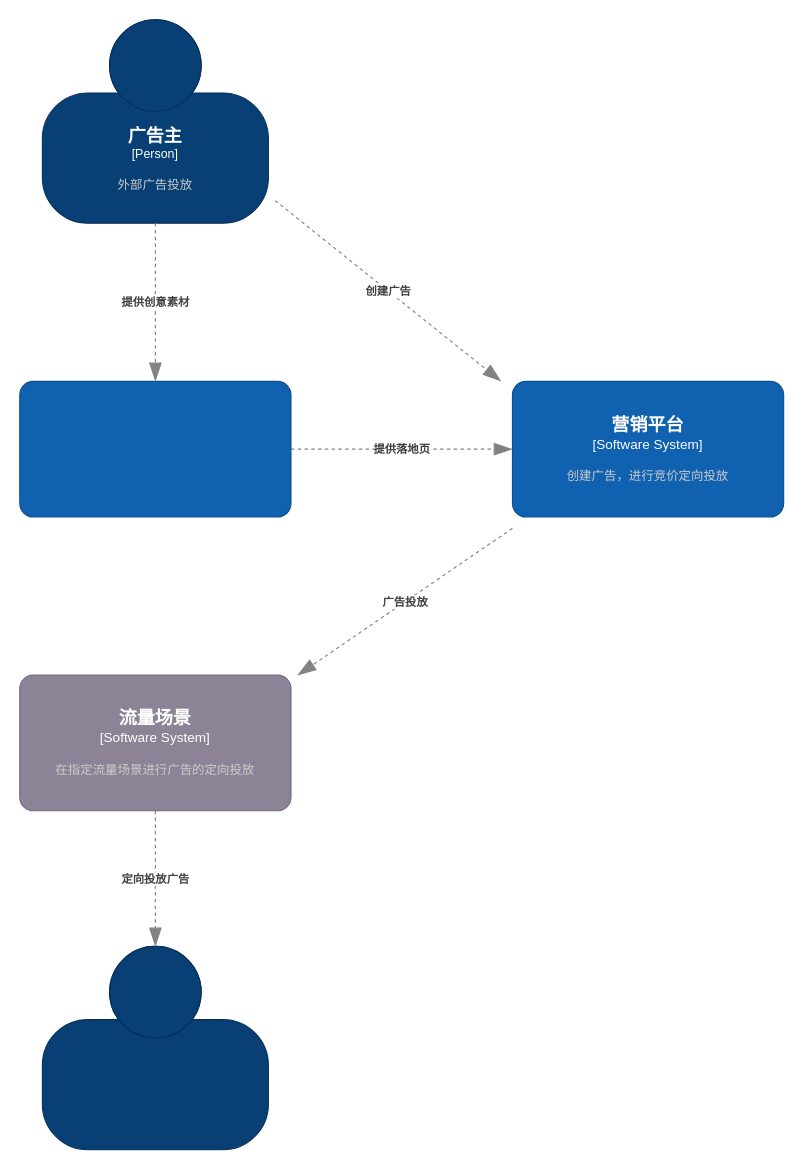
Some shapes in this 803 by 1170 pixel diagram are drawn without their labels. The centre of each missing label's shape, as x and y in pixels:
"用户 [Person] 广告定向人群" goes at pixel 154 1047.
"萤火虫建站系统 [Software System] 基于素材快速构建广告落地页" goes at pixel 155 448.
